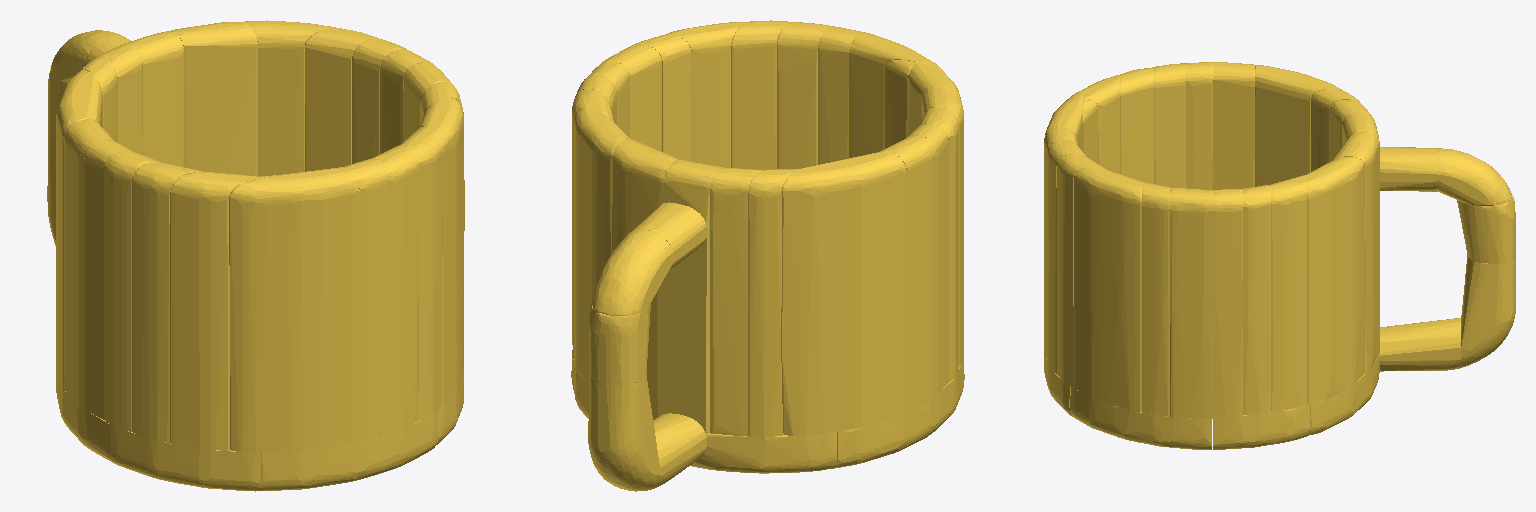
URDF robot description (1004.urdf):
<?xml version="1.0" ?>
<robot name="1004.urdf">
	<link name="baseLink">
		<inertial>
			<origin rpy="0 0 0" xyz="0 0 0"/>
				<mass value="0.1"/>
				<inertia ixx="6e-5" ixy="0" ixz="0" iyy="6e-5" iyz="0" izz="6e-5"/>
		</inertial>
		<visual>
			<origin rpy="0 0 0" xyz="0 0 0"/>
			<geometry>
				<mesh filename="9_decom_wt.obj" scale="1.02 1.02 0.86"/>
			</geometry>
			<material name="yellow">
				<color rgba="0.98 0.84 0.35 1"/>
			</material>
		</visual>
		<collision>
			<origin rpy="0 0 0" xyz="0 0 0"/>
			<geometry>
				<mesh filename="9_decom_wt.obj" scale="1.02 1.02 0.86"/>
			</geometry>
		</collision>
	</link>
</robot>

--- Render facts (derived) ---
3 views of the same robot in one strip: view 1: azimuth 30°, elevation 25°; view 2: azimuth 150°, elevation 25°; view 3: azimuth 270°, elevation 25° (orthographic).
Model 1004.urdf with 1 links and 0 joints (none), rooted at baseLink, posed all joints at 0.
Links seen in each view (by area): view 1: baseLink; view 2: baseLink; view 3: baseLink.
Boxes of the visible links, bbox=[...] form: baseLink: bbox=[47, 20, 464, 491]; baseLink: bbox=[571, 20, 964, 491]; baseLink: bbox=[1044, 62, 1515, 449].
Bounding box of the posed robot: 0.108 × 0.1518 × 0.0908 m (x, y, z).
1 mesh visuals loaded from 1 distinct referenced files (1 OBJ).